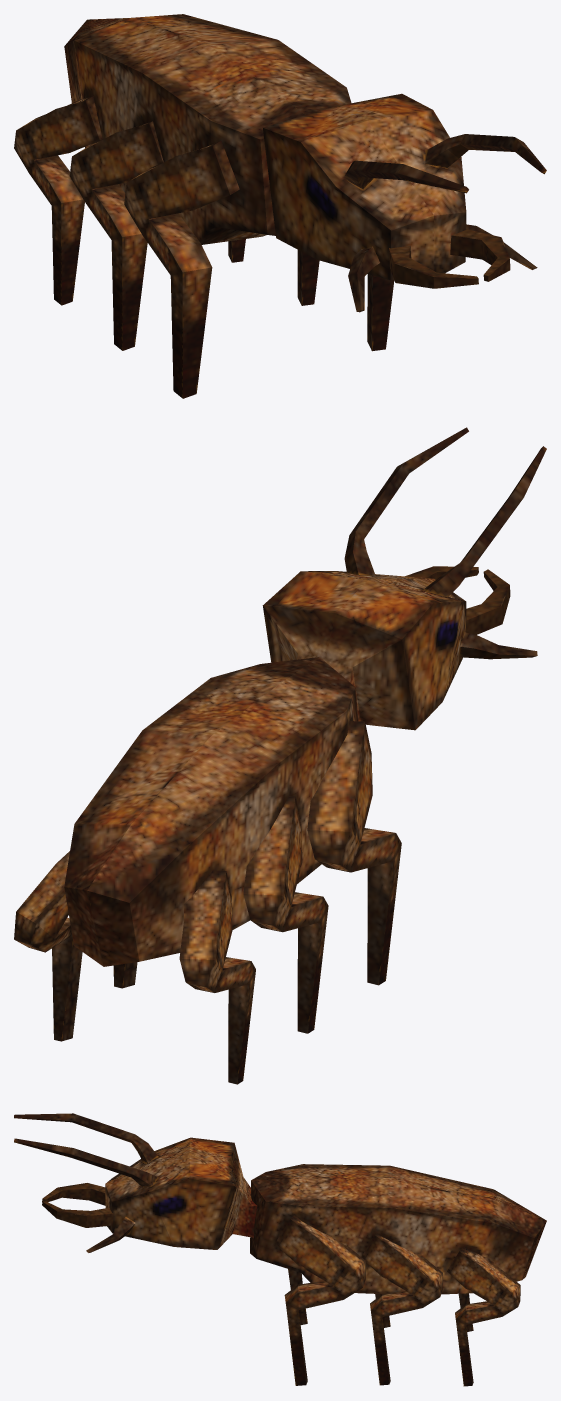
File: calpod.obj
3 views of the same model, one above another, from view 1: azimuth 30°, elevation 25°; view 2: azimuth 150°, elevation 25°; view 3: azimuth 270°, elevation 25° (orthographic). The views are drawn at different scales.
Visible parts, largest first — view 1: Body, Head, LegRightFront, LegRightMiddle, LegRightBack, MouthRight, MouthLeft, LegLeftFront, LegLeftMiddle; view 2: Body, Head, LegRightFront, LegRightMiddle, LegRightBack, LegLeftBack, MouthRight; view 3: Body, Head, LegLeftFront, LegLeftMiddle, LegLeftBack, MouthLeft, MouthRight, LegRightFront.
Boxes of the visible parts, left/top/right/bottom form: Body: left=64, top=14, right=351, bottom=244; Head: left=263, top=93, right=546, bottom=312; LegRightFront: left=124, top=141, right=239, bottom=398; LegRightMiddle: left=69, top=121, right=163, bottom=350; LegRightBack: left=14, top=96, right=102, bottom=305; MouthRight: left=389, top=245, right=478, bottom=288; MouthLeft: left=450, top=229, right=510, bottom=281; LegLeftFront: left=367, top=274, right=394, bottom=351; LegLeftMiddle: left=297, top=250, right=319, bottom=305; Body: left=64, top=657, right=358, bottom=966; Head: left=262, top=427, right=546, bottom=730; LegRightFront: left=307, top=721, right=401, bottom=985; LegRightMiddle: left=243, top=796, right=328, bottom=1033; LegRightBack: left=179, top=870, right=255, bottom=1084; LegLeftBack: left=14, top=851, right=82, bottom=1041; MouthRight: left=466, top=569, right=510, bottom=634; Body: left=250, top=1164, right=546, bottom=1294; Head: left=14, top=1113, right=257, bottom=1252; LegLeftFront: left=275, top=1215, right=365, bottom=1385; LegLeftMiddle: left=361, top=1233, right=442, bottom=1385; LegLeftBack: left=447, top=1247, right=520, bottom=1386; MouthLeft: left=42, top=1201, right=113, bottom=1227; MouthRight: left=42, top=1183, right=105, bottom=1205; LegRightFront: left=288, top=1269, right=307, bottom=1324.
Size of the model in its own units: 1 by 1.53 by 3.2.
